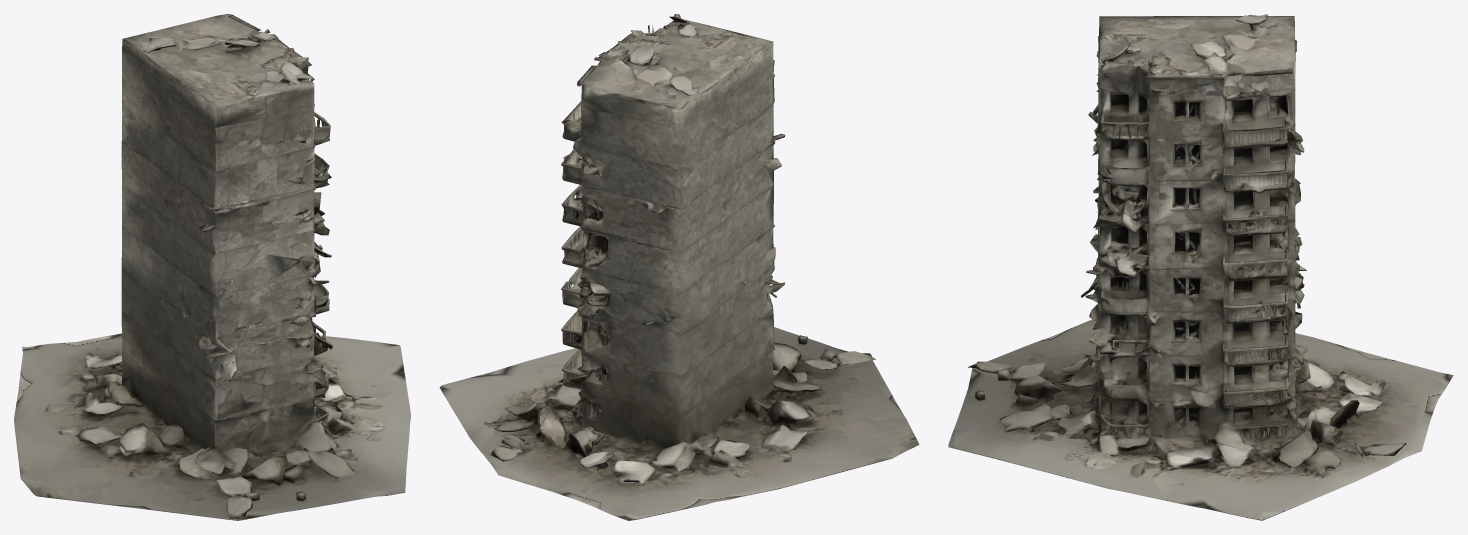
File: bg_khrush.glb
3 views of the same model, side by side, from view 1: azimuth 30°, elevation 25°; view 2: azimuth 150°, elevation 25°; view 3: azimuth 270°, elevation 25° (orthographic). The views are drawn at different scales.
Parts seen in each view (by area): view 1: tripo_node_dde3c599-3747-4d68-b993-08b56f06e92c; view 2: tripo_node_dde3c599-3747-4d68-b993-08b56f06e92c; view 3: tripo_node_dde3c599-3747-4d68-b993-08b56f06e92c.
Boxes of the visible parts, x1,y1,x2,y2 form: tripo_node_dde3c599-3747-4d68-b993-08b56f06e92c: (14,14,410,520); tripo_node_dde3c599-3747-4d68-b993-08b56f06e92c: (439,14,919,520); tripo_node_dde3c599-3747-4d68-b993-08b56f06e92c: (948,14,1453,520).
Size of the model in its own units: 1 by 0.8396 by 0.9899.
Materials: 1 (1 with a texture image).
